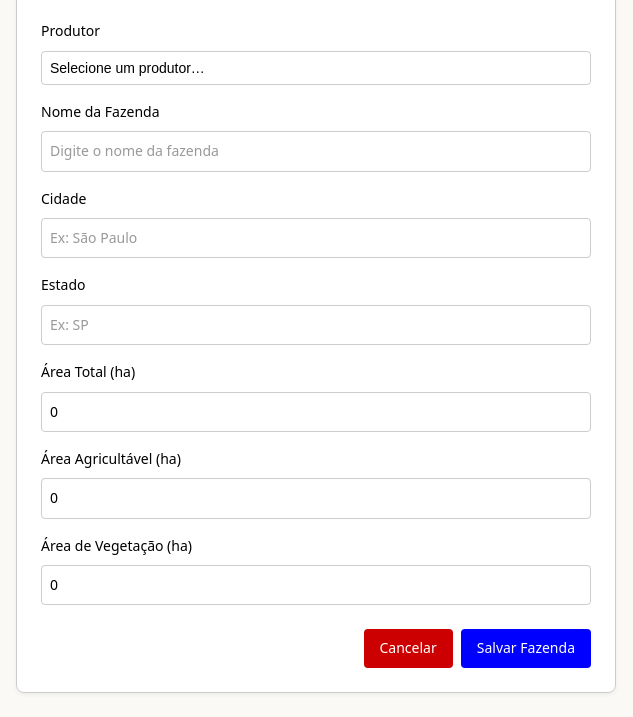
it: NewFarmForm › exibe mensagens de erro ao submeter sem preencher campos obrigatórios
The width and height of the screenshot is (633, 717).
(page scrolled)
Step 1. Click the button "Salvar Fazenda" → (526, 649), box [461,630,591,668]
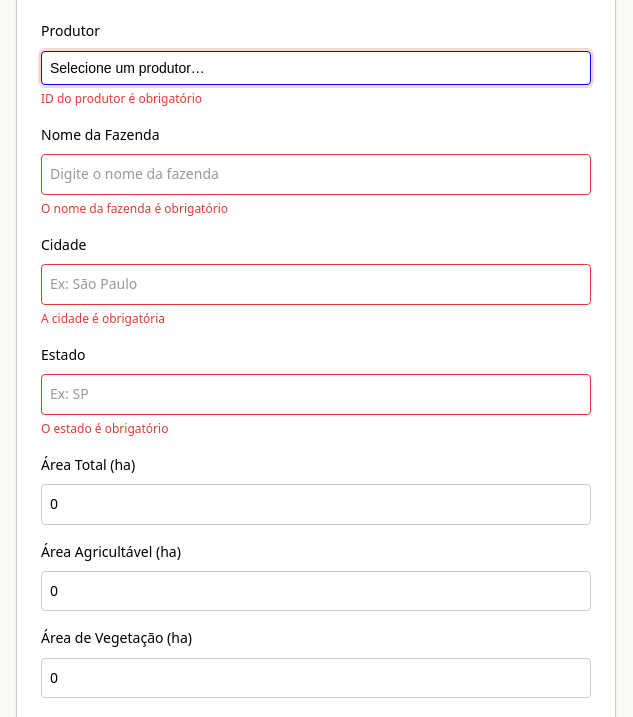
expect the text "ID do produtor é obrigatório" is shown: met, box [41,90,202,107]
expect the text "O nome da fazenda é obrigatório" is shown: met, box [41,200,228,217]
expect the text "A cidade é obrigatória" is shown: met, box [41,310,165,327]
